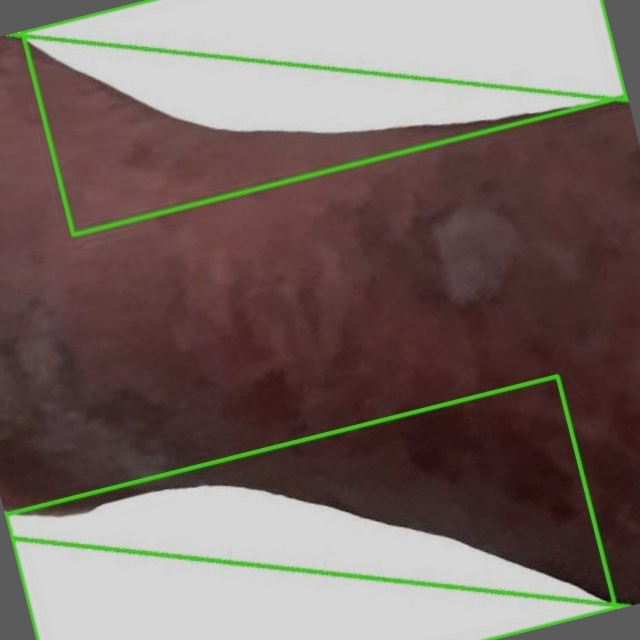Eczema: (0, 70, 639, 568), (5, 376, 615, 639), (22, 0, 626, 234)
